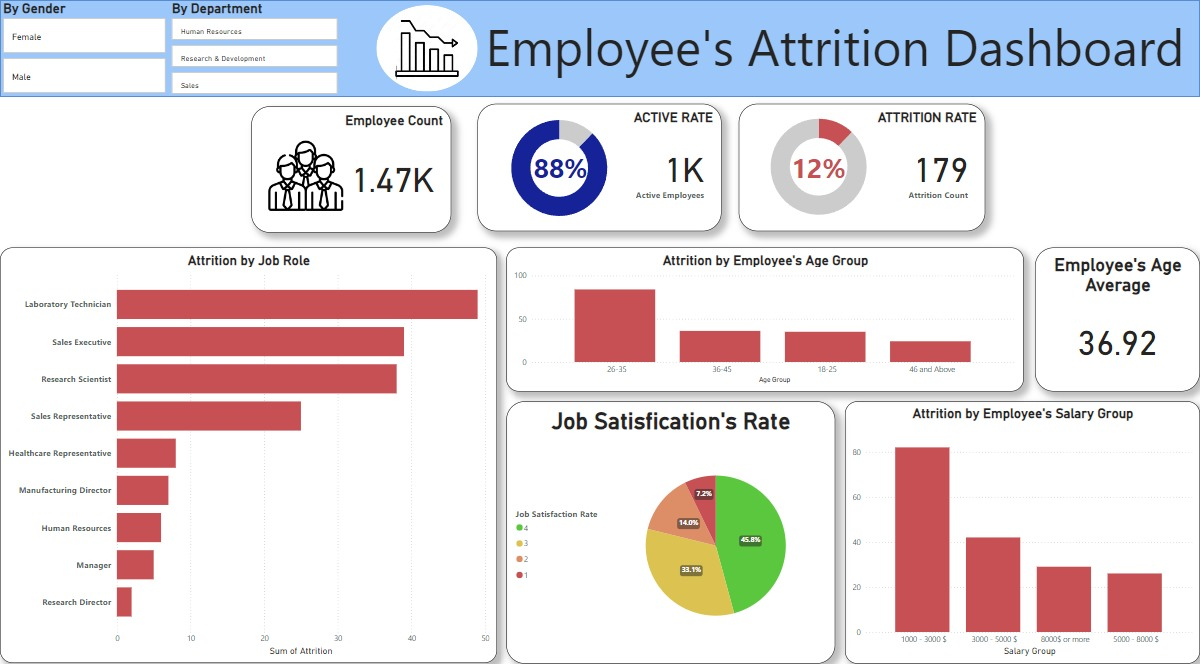

The page's visual inventory and layout, read from the dashboard file:
{"tool":"powerbi","page":{"name":"HR_Attrition","canvas":[1920,1080],"ordinal":0},"visuals":[{"type":"shape","box":[0,0,1920,155],"z":0},{"type":"textbox","box":[752,14,1168,122],"z":1000},{"type":"shape","box":[601.2,7.5,162.5,138.8],"z":2000},{"type":"image","box":[625,21.2,115,111.2],"z":3000},{"type":"cardVisual","title":"Employee Count","fields":{"Data":["CountNonNull(new_employee_attrition.EmployeeCount)"]},"box":[402,170,320,202],"z":4000},{"type":"cardVisual","title":"ACTIVE RATE","fields":{"Data":["new_employee_attrition.Count of Attrition for 0 2"]},"box":[764,166,390,204],"z":5000},{"type":"cardVisual","title":"ATTRITION RATE","fields":{"Data":["new_employee_attrition.Count of Attrition for 1"]},"box":[1182,166,394,204],"z":6000},{"type":"donutChart","fields":{"Y":["new_employee_attrition.Count of Attrition for 1","new_employee_attrition.Count of Attrition for 0"]},"box":[758,168,274,202],"z":7000},{"type":"textbox","box":[831,233,129,71],"z":8000},{"type":"donutChart","fields":{"Y":["new_employee_attrition.Count of Attrition for 1","new_employee_attrition.Count of Attrition for 0"]},"box":[1182,166,256,202],"z":9000},{"type":"textbox","box":[1248,233,123,71],"z":10000},{"type":"advancedSlicerVisual","title":"By Gender","fields":{"Values":["new_employee_attrition.Gender"]},"box":[0,0,270,155],"z":10001},{"type":"advancedSlicerVisual","title":"By Department","fields":{"Values":["new_employee_attrition.Department"]},"box":[270,0,275,155],"z":10002},{"type":"clusteredBarChart","title":"Attrition by Job Role","fields":{"Y":["Sum(new_employee_attrition.Attrition)"],"Category":["new_employee_attrition.JobRole"]},"box":[0,395,795,665],"z":10003},{"type":"columnChart","title":"Attrition by Employee''s Age Group","fields":{"Y":["new_employee_attrition.Count of Attrition for 1"],"Category":["new_employee_attrition.Age Group"]},"box":[810,396,828,230],"z":10004},{"type":"cardVisual","title":"Employee''s Age Average","fields":{"Data":["Avg(new_employee_attrition.Age)"]},"box":[1656,396,264,230],"z":10005},{"type":"pieChart","title":"Job Satisfication''s Rate","fields":{"Category":["new_employee_attrition.JobSatisfaction"],"Y":["Sum(new_employee_attrition.JobSatisfaction)"]},"box":[810,642,526,420],"z":10006},{"type":"columnChart","title":"Attrition by Employee''s Salary Group","fields":{"Y":["new_employee_attrition.Count of Attrition for 1"],"Category":["new_employee_attrition.Salary Group"]},"box":[1352,642,568,420],"z":10007}]}

Visuals, with their boxes in screenshot pixels (x1, y1, x2, y2), scaled from the page's 1920x1080 canvas onto the 1200x664 screenshot:
shape: crop(0, 0, 1199, 95)
textbox: crop(470, 9, 1199, 84)
shape: crop(376, 5, 477, 90)
image: crop(391, 13, 462, 81)
"Employee Count" cardVisual: crop(251, 105, 451, 229)
"ACTIVE RATE" cardVisual: crop(478, 102, 721, 227)
"ATTRITION RATE" cardVisual: crop(739, 102, 985, 227)
donutChart - new_employee_attrition.Count of Attrition for 1 x new_employee_attrition.Count of Attrition for 0: crop(474, 103, 645, 227)
textbox: crop(519, 143, 600, 187)
donutChart - new_employee_attrition.Count of Attrition for 1 x new_employee_attrition.Count of Attrition for 0: crop(739, 102, 899, 226)
textbox: crop(780, 143, 857, 187)
"By Gender" advancedSlicerVisual: crop(0, 0, 169, 95)
"By Department" advancedSlicerVisual: crop(169, 0, 341, 95)
"Attrition by Job Role" clusteredBarChart: crop(0, 243, 497, 652)
"Attrition by Employee''s Age Group" columnChart: crop(506, 243, 1024, 385)
"Employee''s Age Average" cardVisual: crop(1035, 243, 1199, 385)
"Job Satisfication''s Rate" pieChart: crop(506, 395, 835, 653)
"Attrition by Employee''s Salary Group" columnChart: crop(845, 395, 1199, 653)
